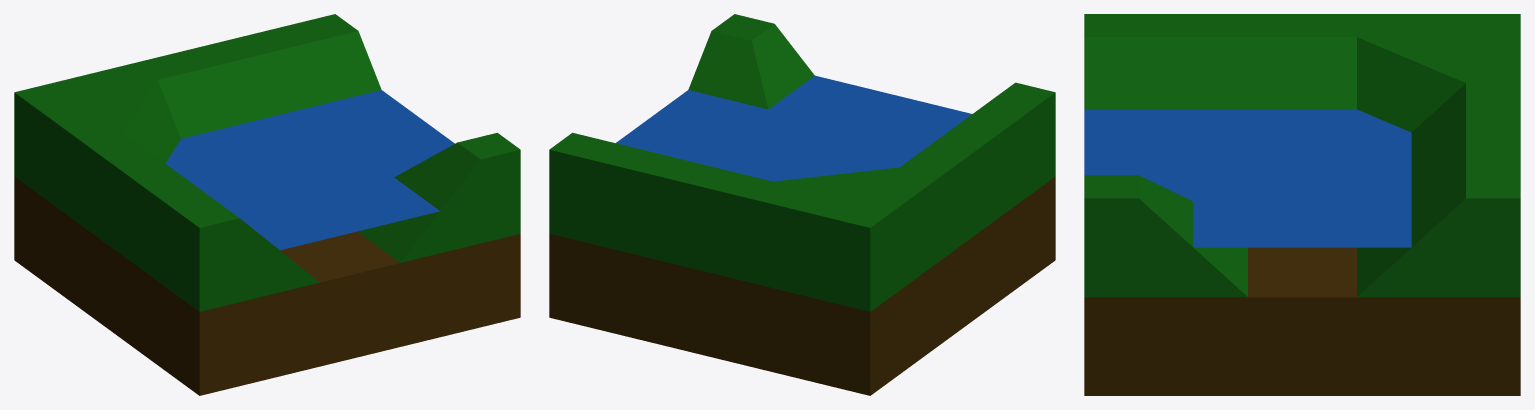
The model's file is river-curve.obj.
3 renders of one model, left to right at view 1: azimuth 30°, elevation 25°; view 2: azimuth 150°, elevation 25°; view 3: azimuth 270°, elevation 25°, orthographic. The views are drawn at different scales.
Parts seen in each view (by area): view 1: grass, dirt, water; view 2: grass, dirt, water; view 3: grass, dirt, water.
Boxes of the visible parts, x1,y1,x2,y2 form: grass: [14, 14, 520, 311]; dirt: [14, 176, 520, 395]; water: [165, 90, 454, 250]; grass: [549, 14, 1055, 311]; dirt: [549, 176, 1055, 395]; water: [616, 75, 971, 181]; grass: [1084, 14, 1520, 297]; dirt: [1084, 247, 1520, 395]; water: [1084, 109, 1411, 247].
Size of the model in its own units: 0.25 by 0.125 by 0.25.
Materials: 1 (1 with a texture image).
